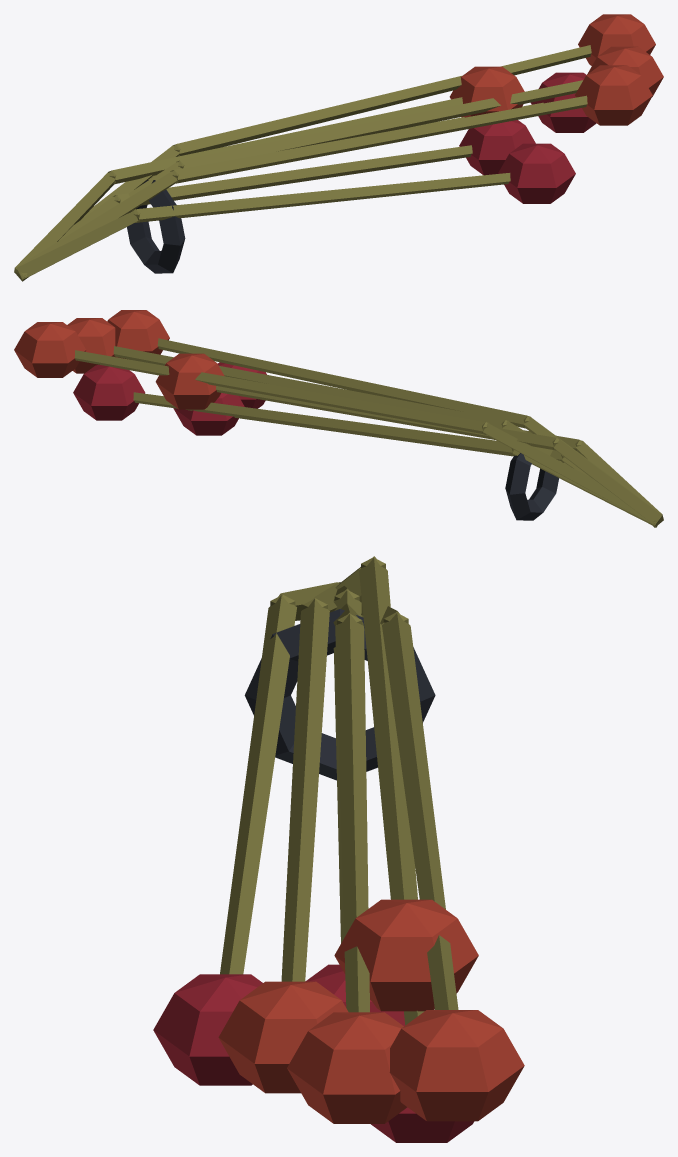
Rendered from flowers.glb.
The picture shows the model from 3 angles, top to bottom: view 1: azimuth 30°, elevation 25°; view 2: azimuth 150°, elevation 25°; view 3: azimuth 270°, elevation 25°; orthographic projection. The views are drawn at different scales.
Parts seen in each view (by area): view 1: Flowers; view 2: Flowers; view 3: Flowers.
Boxes of the visible parts, <box> form: Flowers: <box>14,14,663,281</box>; Flowers: <box>14,310,663,527</box>; Flowers: <box>153,556,524,1142</box>.
Size of the model in its own units: 0.4882 by 0.0812 by 0.1284.
